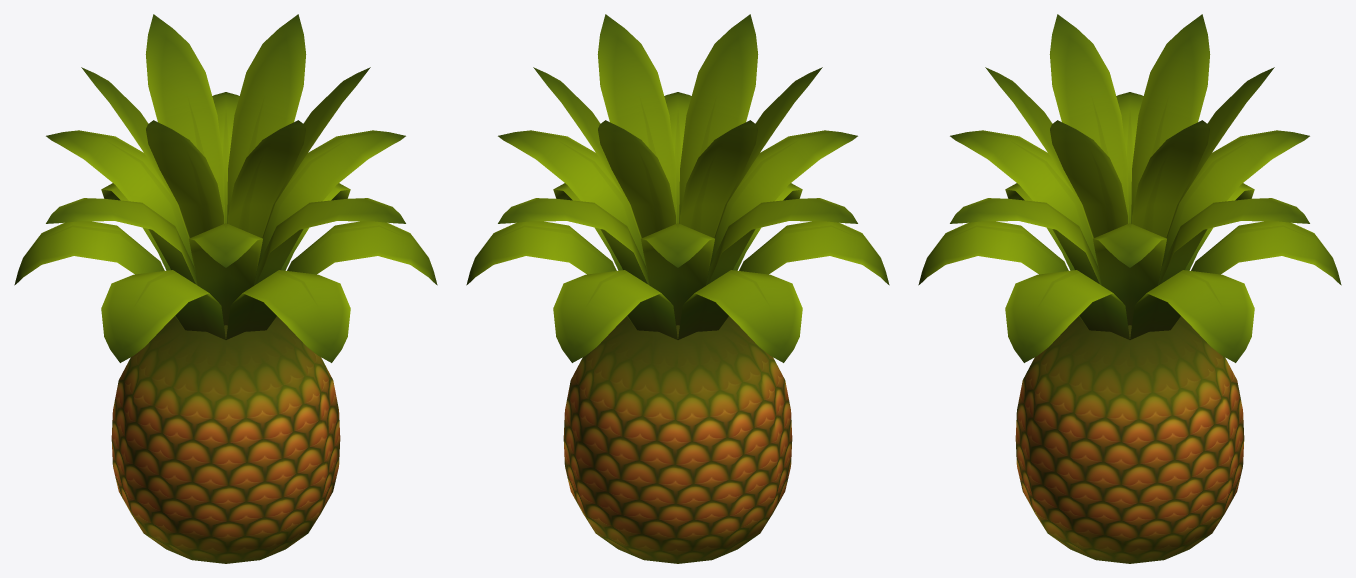
The model's file is Pineapple.fbx.
3 renders of one model, left to right at view 1: azimuth 30°, elevation 25°; view 2: azimuth 150°, elevation 25°; view 3: azimuth 270°, elevation 25°, orthographic.
Visible parts, largest first — view 1: Pineapple_Whole, Pineapple_Half_Top; view 2: Pineapple_Whole, Pineapple_Half_Top; view 3: Pineapple_Whole, Pineapple_Half_Top.
Boxes of the visible parts, x1,y1,x2,y2 form: Pineapple_Whole: (14,14,437,563); Pineapple_Half_Top: (61,198,339,479); Pineapple_Whole: (466,14,889,563); Pineapple_Half_Top: (621,198,843,486); Pineapple_Whole: (918,14,1341,563); Pineapple_Half_Top: (1016,95,1241,486).
Size of the model in its own units: 3.33 by 4.28 by 3.38.
